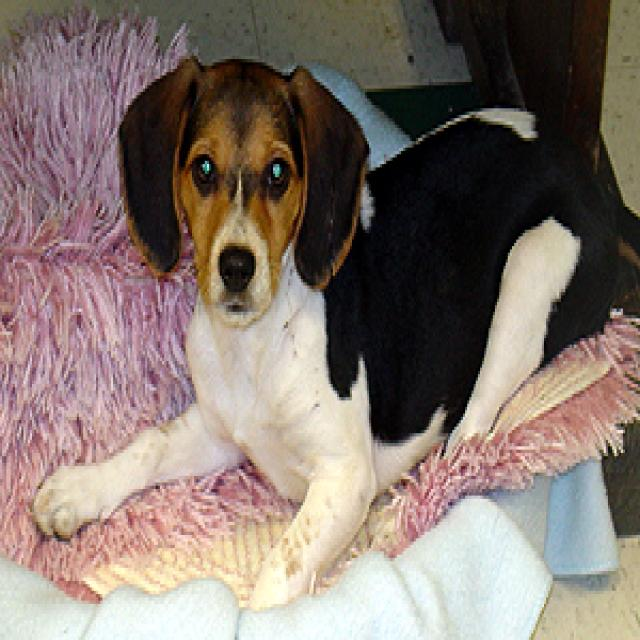Dogs: (28, 46, 638, 607)
